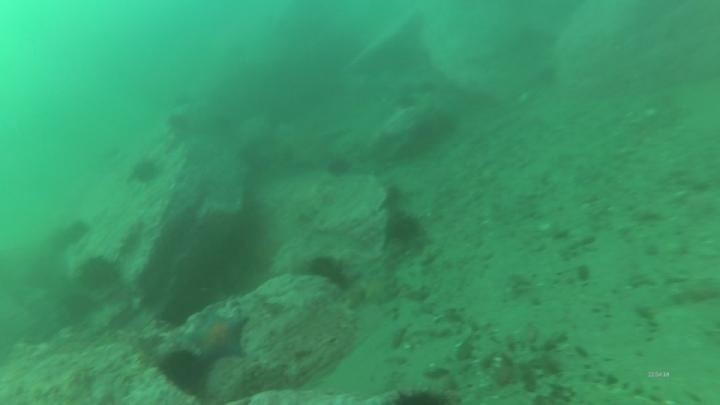echinus: (157, 346, 211, 396), (76, 253, 123, 293), (305, 253, 352, 291), (384, 210, 425, 246), (59, 289, 99, 324), (128, 156, 163, 186), (164, 110, 194, 139), (390, 93, 419, 120), (389, 71, 418, 98), (410, 73, 439, 100), (324, 154, 353, 180), (66, 217, 92, 244)
starfish: (188, 308, 251, 364), (357, 269, 398, 306)
